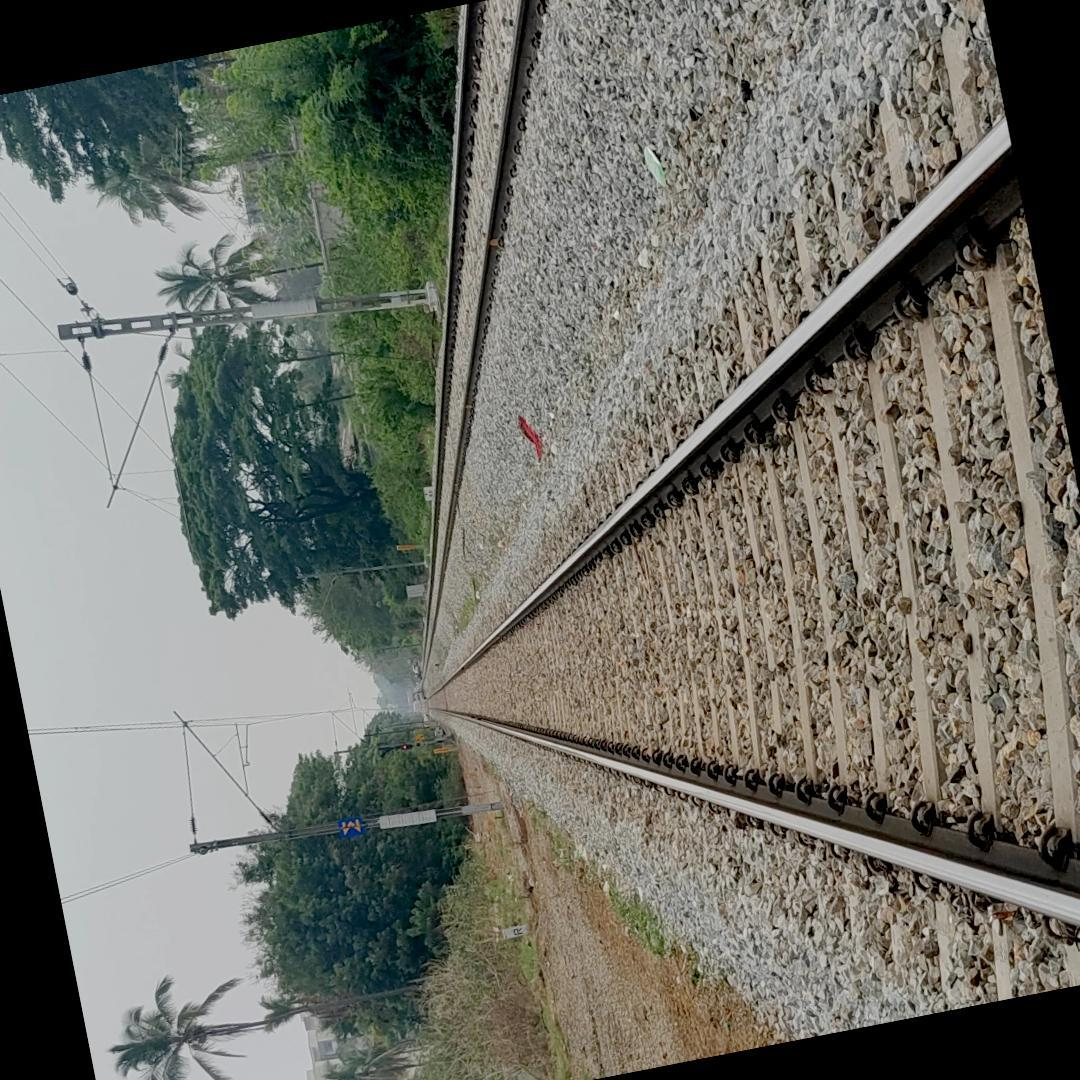track: (415, 0, 1080, 989)
